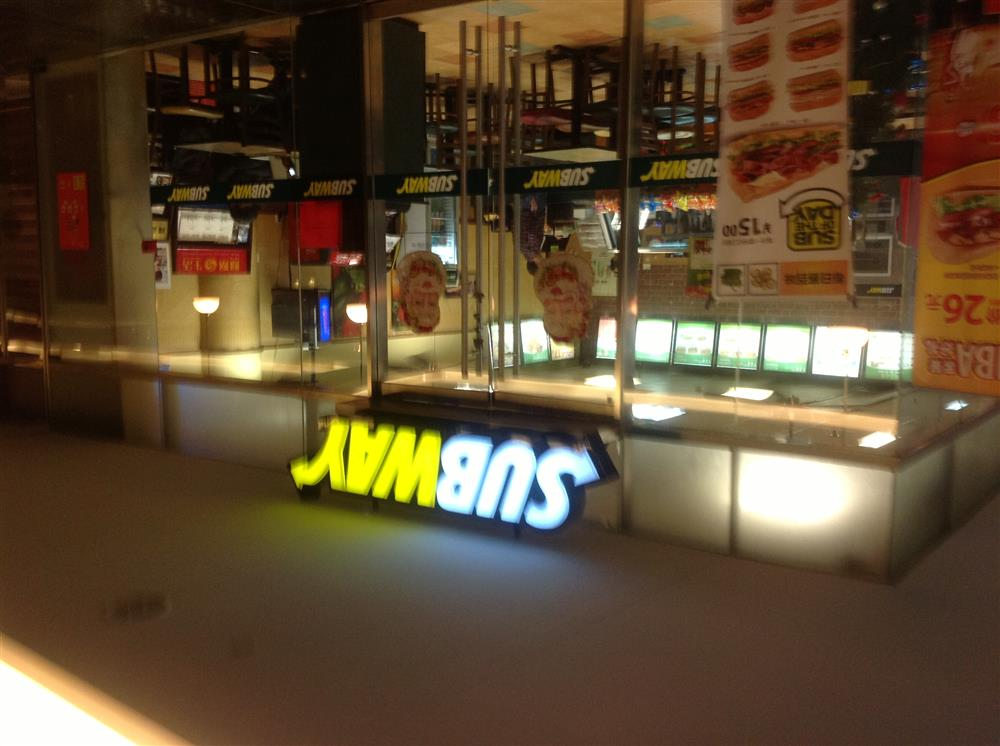subway_food: (276, 397, 619, 544)
